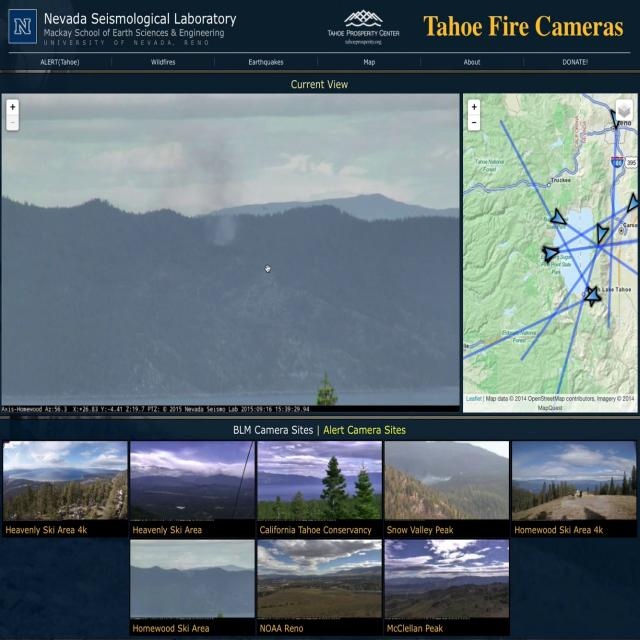smoke: (190, 142, 252, 247)
